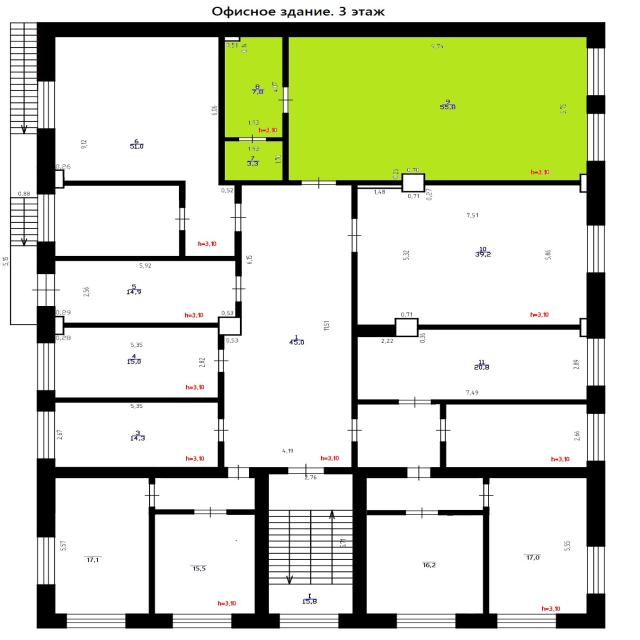Corridors: (224, 185, 351, 467), (225, 37, 282, 137), (358, 405, 440, 467), (367, 478, 483, 510), (156, 478, 255, 509), (269, 474, 352, 509), (225, 142, 282, 180)
Doors: (31, 274, 61, 306), (288, 462, 325, 480), (346, 218, 363, 252), (228, 203, 248, 231), (194, 505, 228, 519), (301, 177, 337, 190), (408, 464, 432, 482), (277, 87, 293, 113), (399, 396, 431, 409), (172, 208, 190, 231), (212, 349, 230, 372), (227, 464, 249, 482), (405, 507, 438, 519), (231, 276, 246, 301), (212, 419, 229, 441), (347, 419, 363, 442), (479, 484, 495, 507), (239, 132, 267, 145), (436, 419, 452, 441), (145, 484, 160, 507)
LBwalls: (37, 21, 606, 82), (338, 467, 408, 629), (231, 466, 280, 629), (56, 467, 228, 478), (430, 467, 586, 478), (586, 460, 605, 547), (36, 458, 56, 537), (36, 584, 67, 629), (37, 128, 56, 194), (586, 273, 605, 339), (586, 161, 605, 226), (125, 613, 173, 629), (37, 306, 55, 344), (456, 613, 498, 629), (37, 241, 56, 274), (351, 324, 396, 337), (586, 386, 606, 414), (402, 173, 425, 192), (395, 318, 418, 337), (218, 317, 241, 336), (37, 390, 56, 412), (586, 96, 605, 114), (55, 315, 65, 335), (56, 169, 64, 189), (579, 318, 587, 337), (580, 173, 586, 193), (225, 36, 240, 42)
Offices: (289, 37, 587, 180), (55, 37, 234, 256), (358, 186, 586, 325), (358, 330, 587, 399), (490, 478, 586, 613), (56, 478, 149, 613), (367, 515, 483, 613), (55, 328, 217, 397), (56, 261, 235, 322), (56, 403, 217, 467), (155, 514, 255, 613), (446, 405, 587, 467), (56, 186, 178, 256)
Stairs: (269, 509, 353, 613), (9, 22, 37, 325)
Walls: (218, 38, 302, 203), (55, 230, 242, 277), (56, 372, 225, 419), (438, 507, 489, 614), (149, 507, 194, 613), (351, 337, 399, 419), (430, 399, 586, 420), (65, 181, 186, 207), (336, 180, 402, 219), (425, 180, 580, 186), (419, 325, 579, 330), (64, 323, 218, 327), (351, 252, 357, 324), (282, 37, 289, 87), (324, 467, 352, 474), (367, 510, 406, 515), (226, 509, 255, 515), (352, 441, 358, 467), (440, 441, 446, 467), (218, 442, 224, 467), (269, 467, 289, 474), (235, 301, 241, 317), (218, 335, 224, 350), (482, 478, 490, 485)
Windows: (587, 47, 606, 96), (587, 114, 606, 162), (396, 613, 456, 628), (36, 411, 55, 458), (37, 81, 56, 128), (587, 339, 605, 387), (37, 194, 55, 242), (587, 226, 605, 273), (37, 537, 55, 584), (588, 414, 605, 462), (588, 547, 605, 595), (37, 343, 54, 391), (498, 614, 556, 628), (280, 614, 338, 628), (173, 614, 231, 628), (67, 614, 125, 628)
